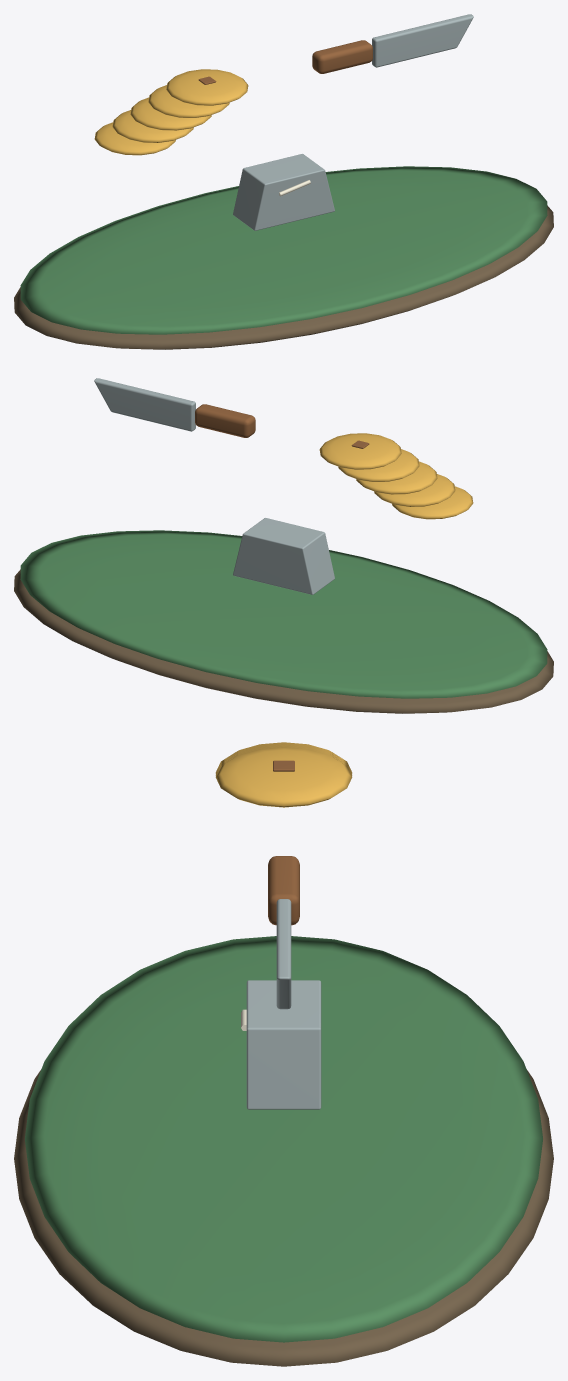
The model's file is complete-first-metal-money-blades.glb.
The picture shows the model from 3 angles, top to bottom: view 1: azimuth 30°, elevation 25°; view 2: azimuth 150°, elevation 25°; view 3: azimuth 270°, elevation 25°; orthographic projection. The views are drawn at different scales.
Visible parts, largest first — view 1: complete-first-metal-money-blades_surface_01, complete-first-metal-money-blades_surface_00, complete-first-metal-money-blades_surface_04, complete-first-metal-money-blades_surface_02, complete-first-metal-money-blades_surface_03; view 2: complete-first-metal-money-blades_surface_01, complete-first-metal-money-blades_surface_00, complete-first-metal-money-blades_surface_04, complete-first-metal-money-blades_surface_02, complete-first-metal-money-blades_surface_03; view 3: complete-first-metal-money-blades_surface_01, complete-first-metal-money-blades_surface_00, complete-first-metal-money-blades_surface_04, complete-first-metal-money-blades_surface_02, complete-first-metal-money-blades_surface_03.
Part boxes in pixels (x1,y1,x2,y2): complete-first-metal-money-blades_surface_01: (20, 166, 547, 334); complete-first-metal-money-blades_surface_00: (14, 205, 553, 349); complete-first-metal-money-blades_surface_04: (233, 14, 473, 230); complete-first-metal-money-blades_surface_02: (94, 69, 248, 155); complete-first-metal-money-blades_surface_03: (198, 40, 372, 84); complete-first-metal-money-blades_surface_01: (20, 530, 547, 698); complete-first-metal-money-blades_surface_00: (14, 569, 553, 713); complete-first-metal-money-blades_surface_04: (94, 378, 334, 594); complete-first-metal-money-blades_surface_02: (319, 433, 473, 519); complete-first-metal-money-blades_surface_03: (195, 404, 369, 448); complete-first-metal-money-blades_surface_01: (25, 936, 542, 1342); complete-first-metal-money-blades_surface_00: (14, 1070, 553, 1366); complete-first-metal-money-blades_surface_04: (246, 899, 321, 1109); complete-first-metal-money-blades_surface_02: (215, 742, 352, 807); complete-first-metal-money-blades_surface_03: (268, 760, 299, 925).
Bounding box in the file's own units: 4.56 × 1.83 × 2.5.
